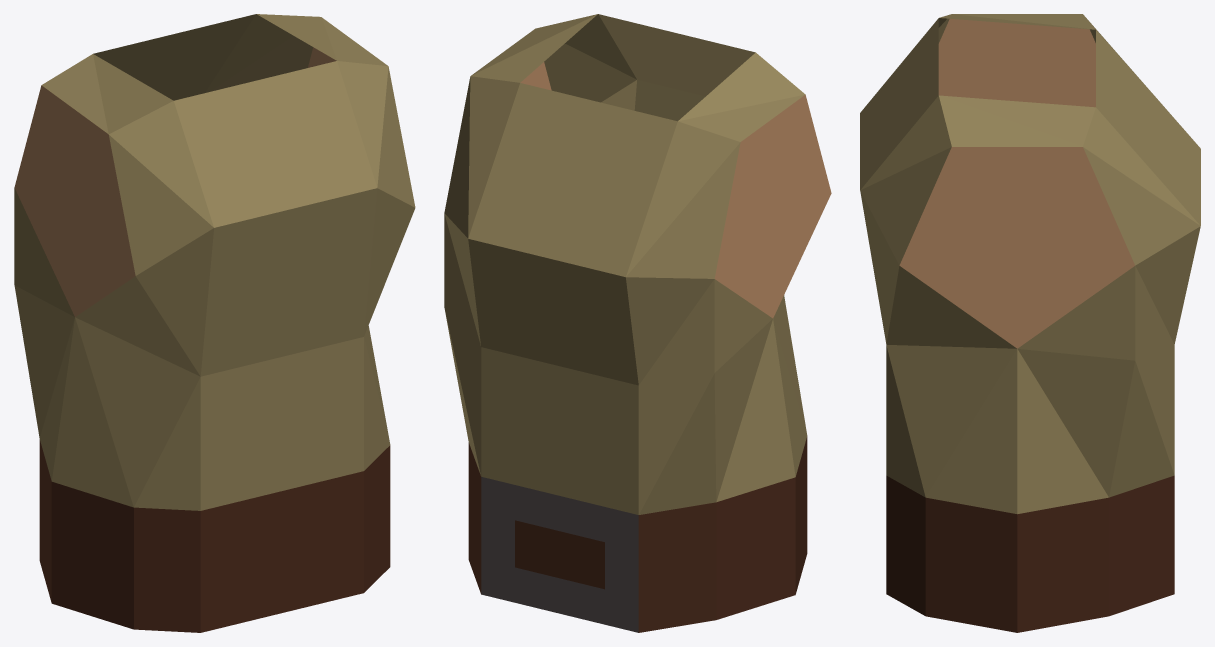
The model's file is npc_world_thurgo_3.obj.
The picture shows the model from 3 angles, left to right: view 1: azimuth 30°, elevation 25°; view 2: azimuth 150°, elevation 25°; view 3: azimuth 270°, elevation 25°; orthographic projection. The views are drawn at different scales.
Bounding box in the file's own units: 0.2188 × 0.3281 × 0.2031.
